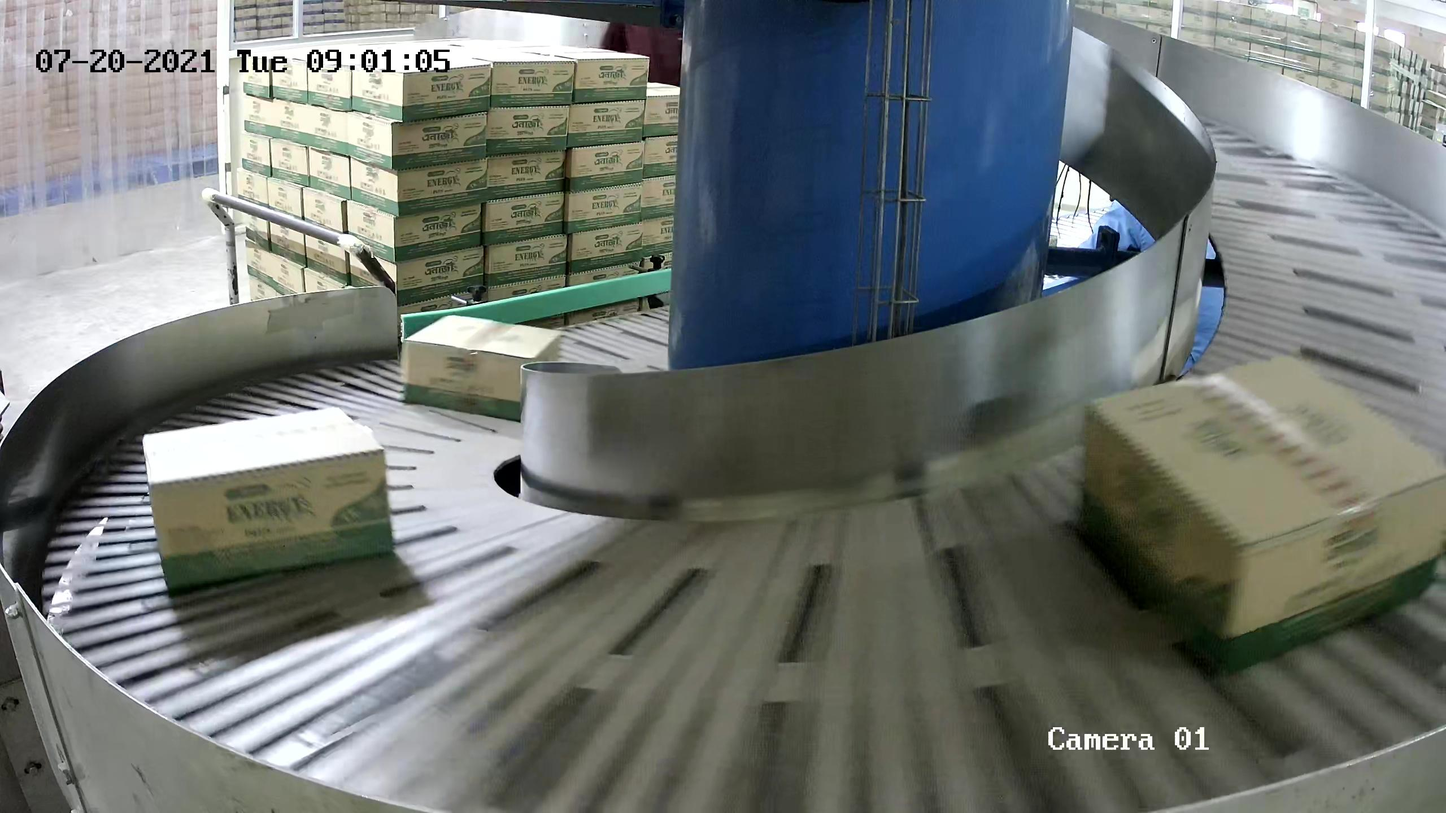Box: (1078, 351, 1446, 681), (141, 404, 397, 595), (399, 312, 563, 424)
